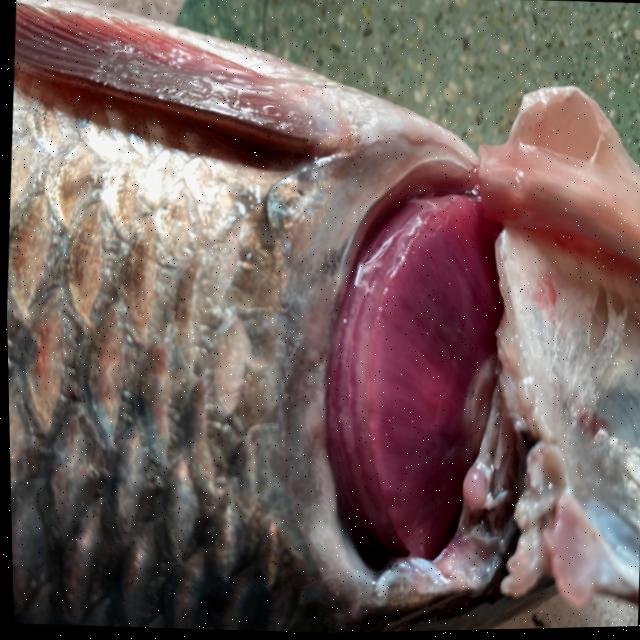Fresh: (292, 138, 535, 602)
